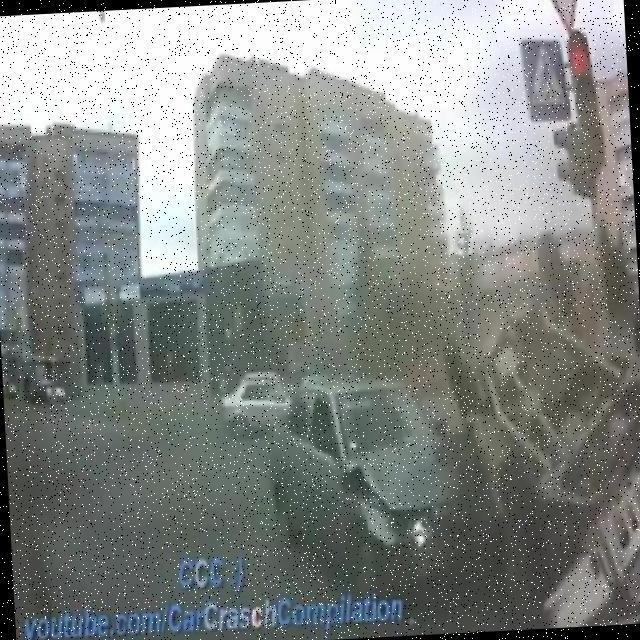accident: (360, 332, 639, 598)
